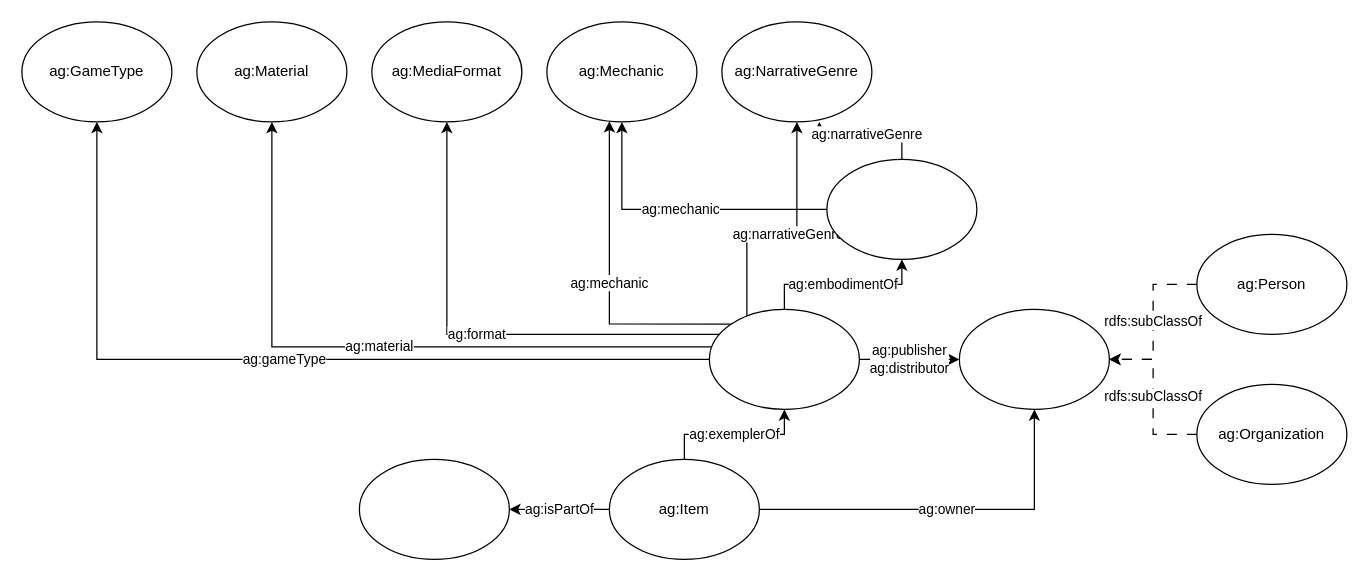
Some shapes in this 1369 by 581 pixel diagram are drawn without their labels. The shapes that lost their labels are listed below. From the top down, each one's centre as x and y in pixels, then its label:
point (901, 208): ag:Work
point (783, 358): ag:Instance
point (1033, 358): ag:Agent
point (433, 508): ag:Collection
